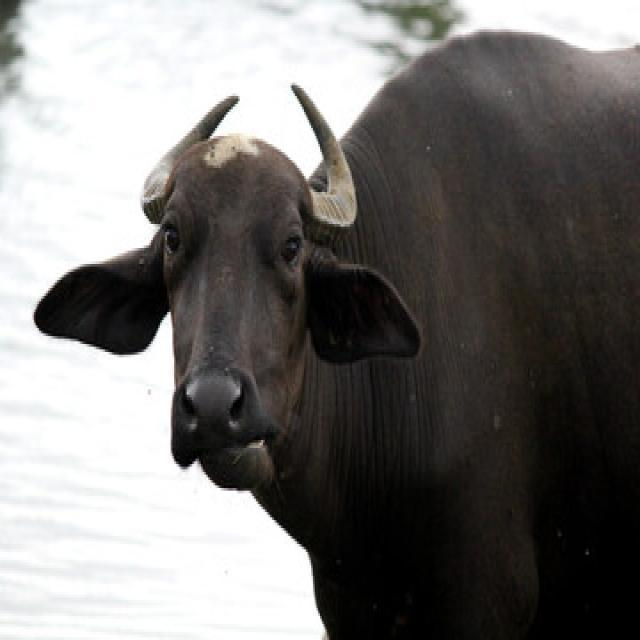Buffalo: (32, 24, 638, 637)
